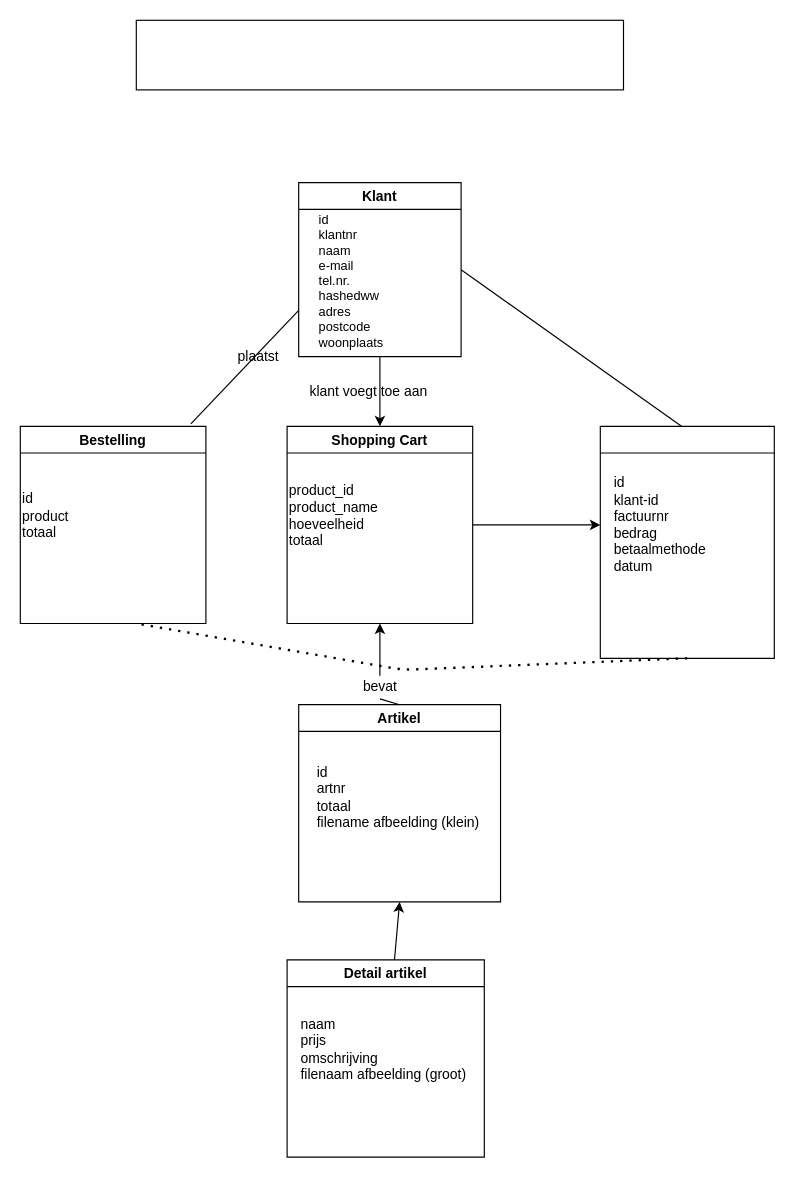
Some shapes in this 795 by 1177 pixel diagram are drawn without their labels. The box of each missing label's shape, as (x1, y1, x2, y2) in pixels:
Betaling: (599, 425, 774, 658)
Datamodel (ERD) webshop: (135, 19, 624, 90)
